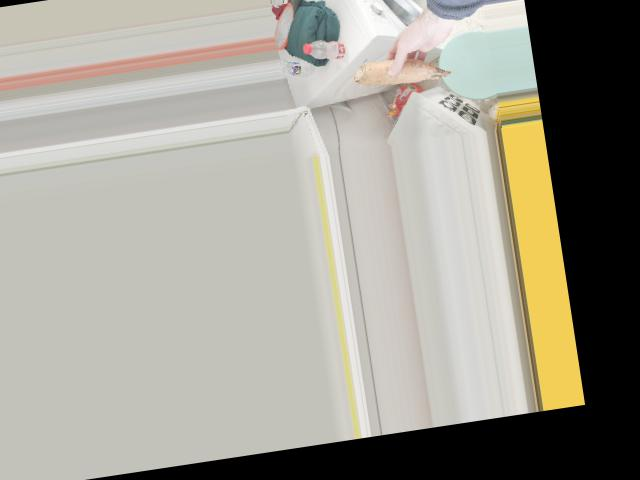sweet_potato: (346, 43, 454, 98)
